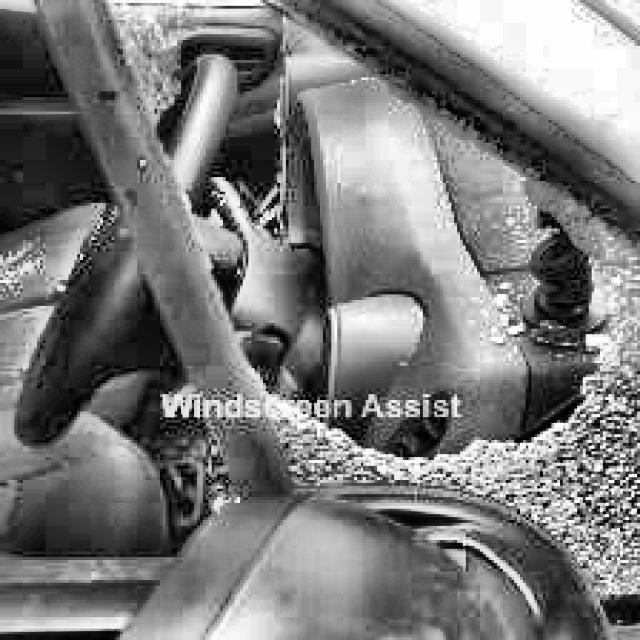glass_shatter: (277, 198, 633, 460), (117, 5, 315, 140)
